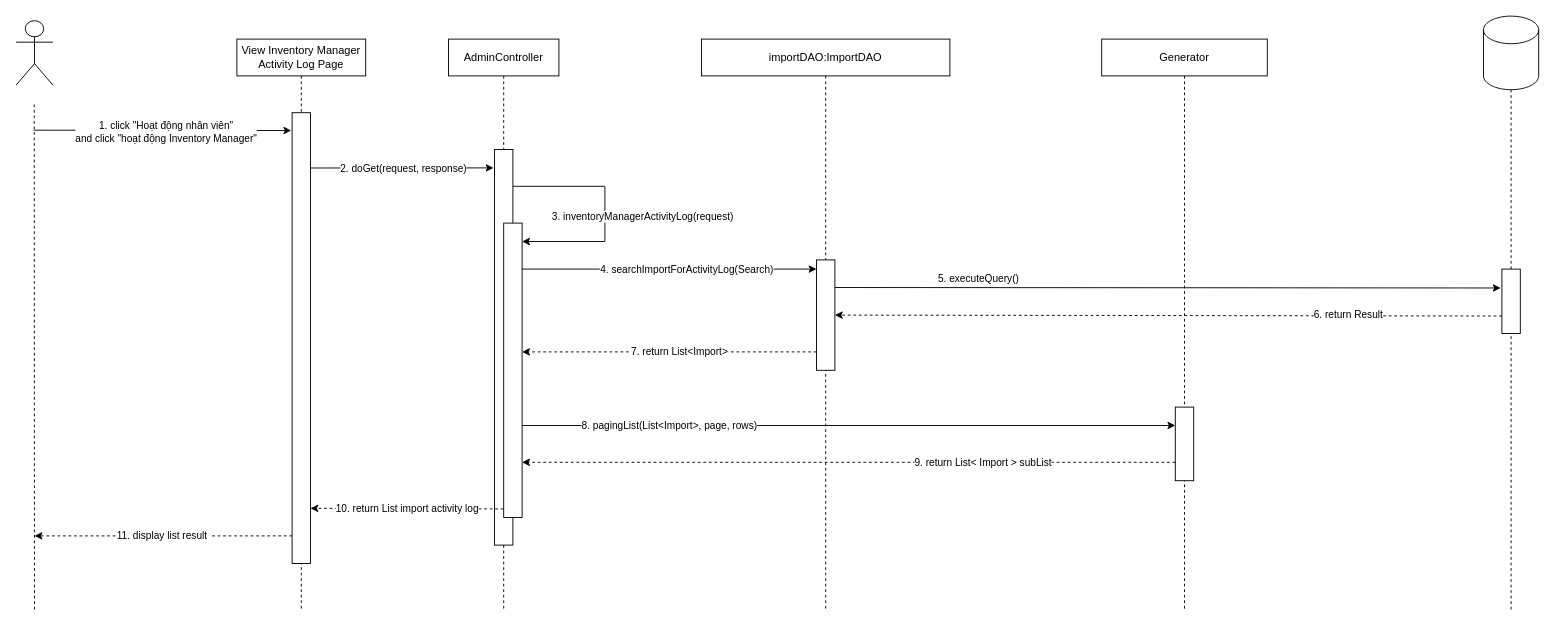
This 1555x627 diagram has some shape labels left out. Here are the shapes that lost their labels. From the top down, the centre of each, then its label:
At [34,52]: "Admin".
At [1511,52]: "Database".
